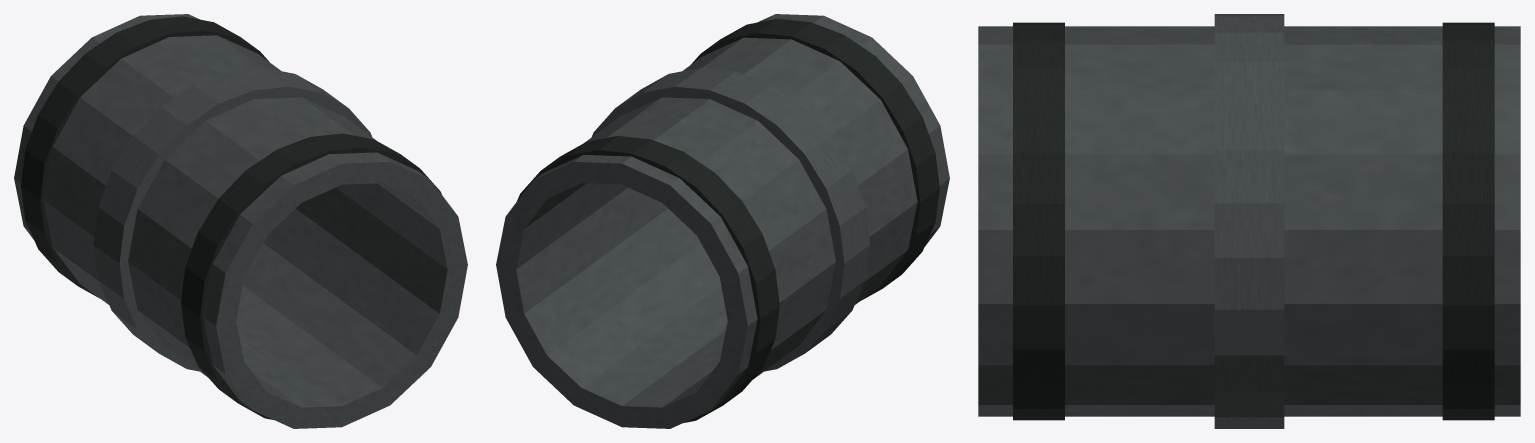
The model's file is Pipe_Coupler_75mm.glb.
3 views of the same model, side by side, from view 1: azimuth 30°, elevation 25°; view 2: azimuth 150°, elevation 25°; view 3: azimuth 270°, elevation 25° (orthographic). The views are drawn at different scales.
Parts seen in each view (by area): view 1: Double_Female_Coupling, Centre_Stop_Ring, Upper_EPDM_Seal, Lower_EPDM_Seal; view 2: Double_Female_Coupling, Centre_Stop_Ring, Lower_EPDM_Seal, Upper_EPDM_Seal; view 3: Double_Female_Coupling, Centre_Stop_Ring, Lower_EPDM_Seal, Upper_EPDM_Seal.
Boxes of the visible parts, <box> form: Double_Female_Coupling: <box>14,14,467,428</box>; Centre_Stop_Ring: <box>93,67,372,371</box>; Upper_EPDM_Seal: <box>181,133,441,419</box>; Lower_EPDM_Seal: <box>21,16,269,298</box>; Double_Female_Coupling: <box>496,14,949,428</box>; Centre_Stop_Ring: <box>591,67,870,371</box>; Lower_EPDM_Seal: <box>517,136,779,422</box>; Upper_EPDM_Seal: <box>691,18,939,300</box>; Double_Female_Coupling: <box>978,26,1520,416</box>; Centre_Stop_Ring: <box>1214,14,1284,428</box>; Lower_EPDM_Seal: <box>1442,22,1494,420</box>; Upper_EPDM_Seal: <box>1013,22,1064,420</box>.
Bounding box in the file's own units: 0.096 × 0.096 × 0.125.
2 materials, 2 textured.
